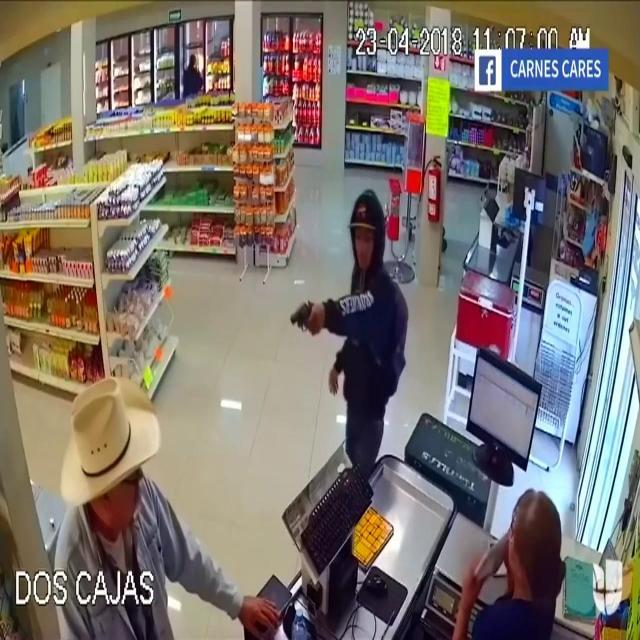Gun: (282, 284, 322, 356)
